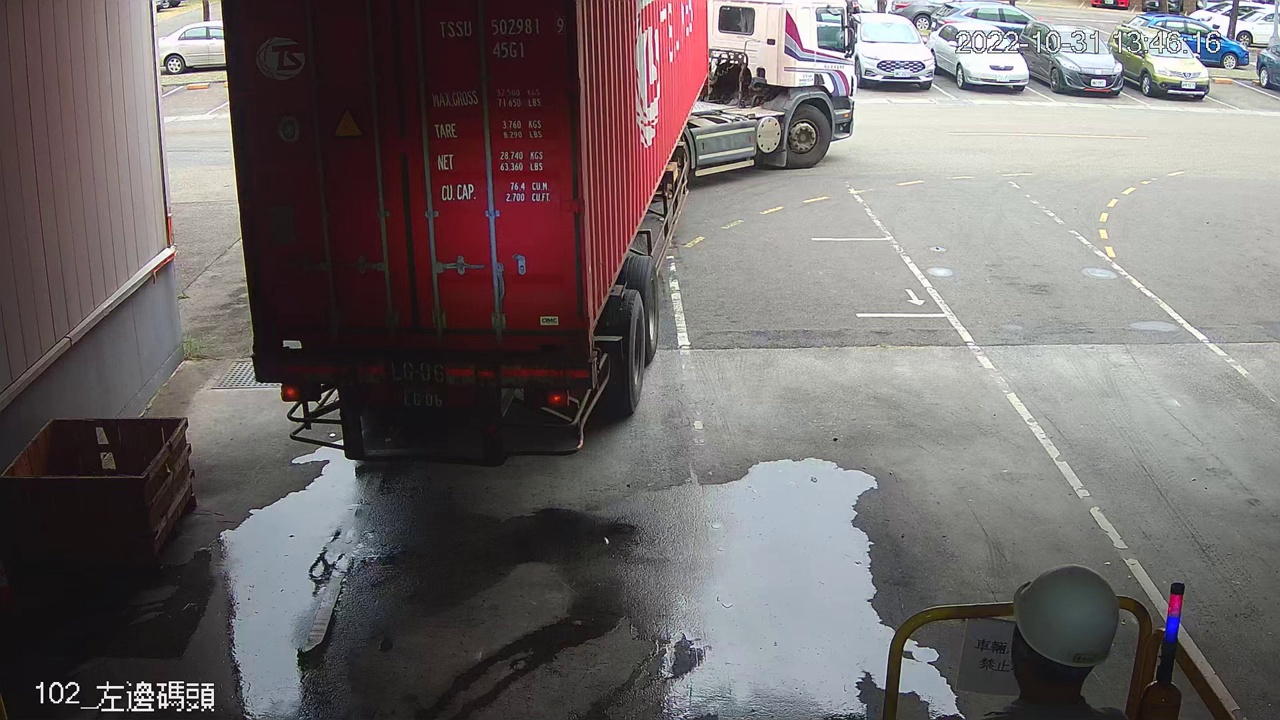container: (433, 11, 572, 64)
